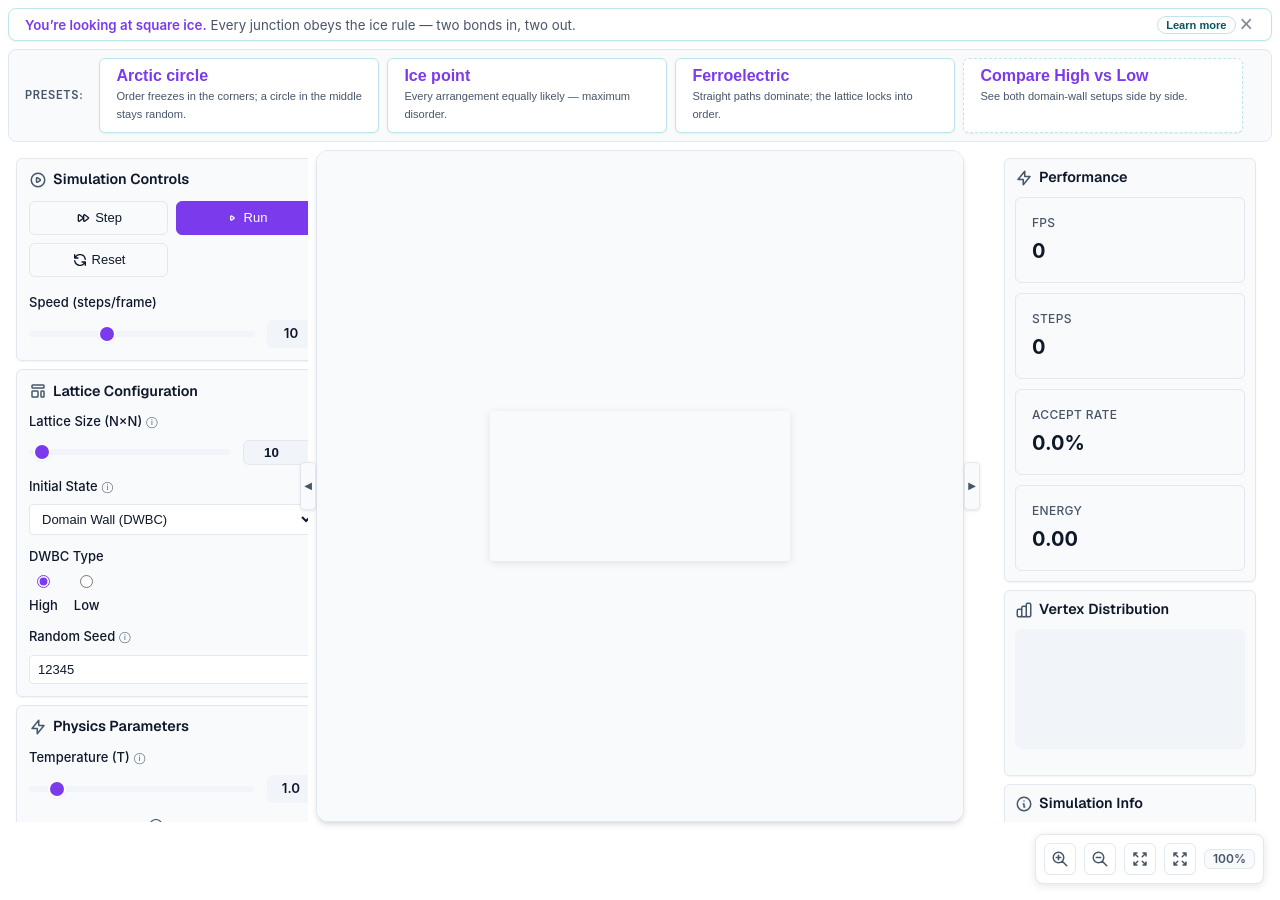
Test: CollapsiblePanel Integration › should show correct arrow directions for panels
Check: the icon with class "toggle-icon" reads "◀", box [304,480,312,491]
Check: the icon with class "toggle-icon" reads "▶", box [968,480,976,491]
// Collapse both panels
Click the button named "Collapse Controls" at (308, 486), box [300,462,316,510]
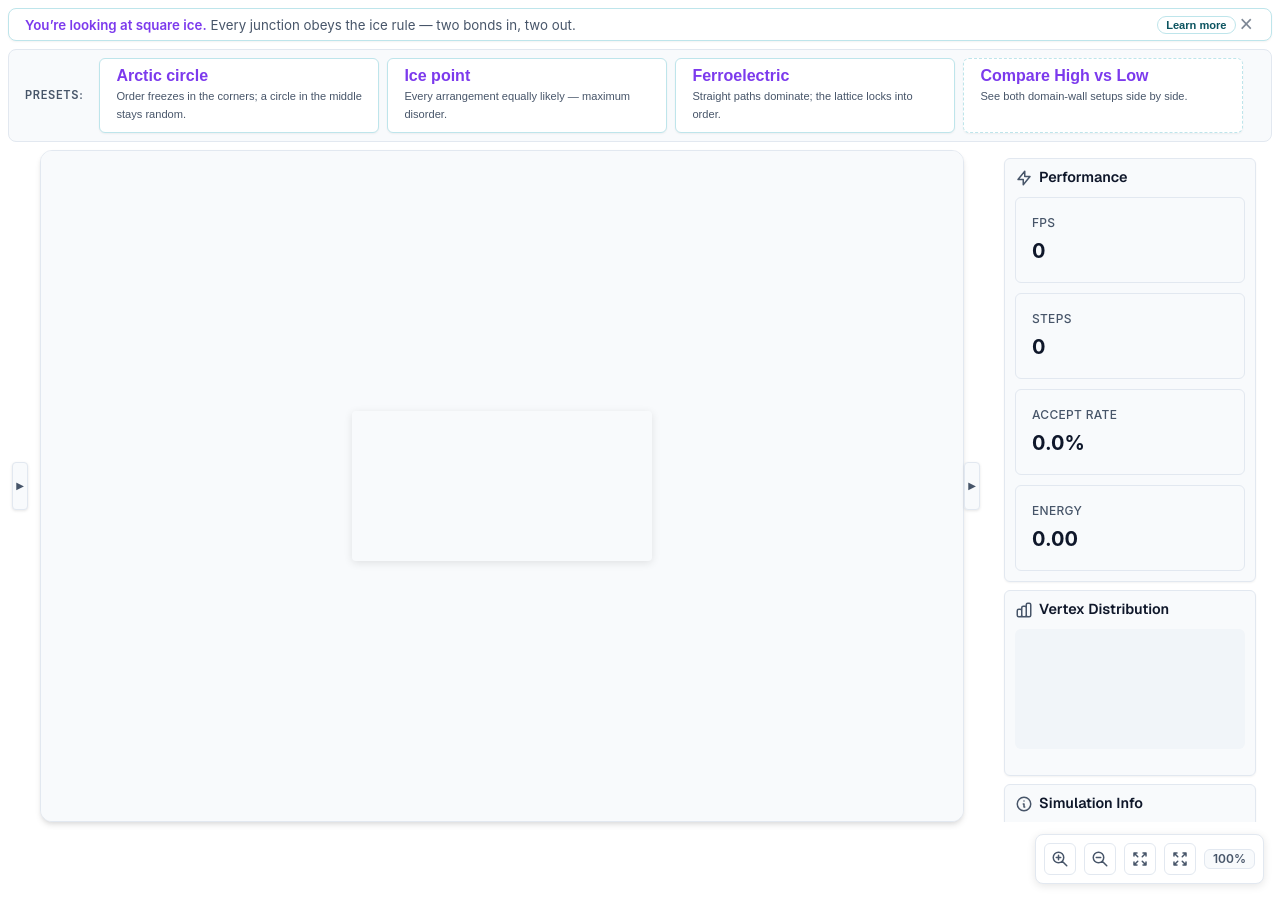
Click the button named "Collapse Info" at (972, 486), box [964,462,980,510]
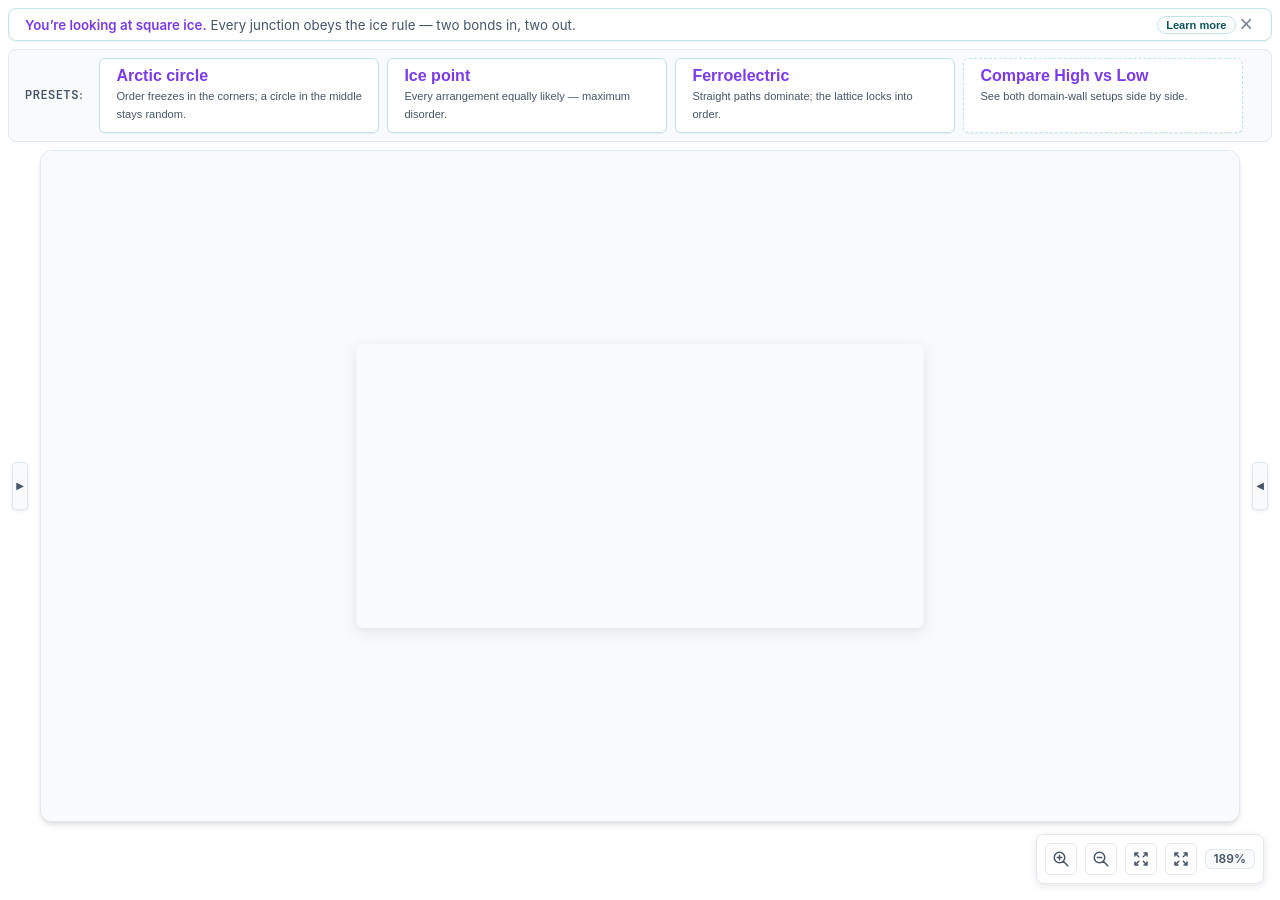
Check: the icon with class "toggle-icon" reads "▶", box [16,480,24,491]
Check: the icon with class "toggle-icon" reads "◀", box [1256,480,1264,491]
